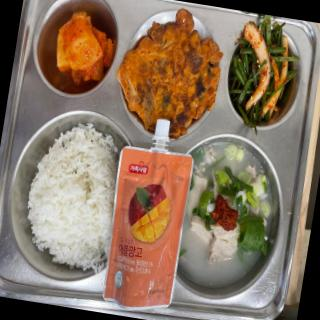Nasi: (17, 122, 122, 289)
